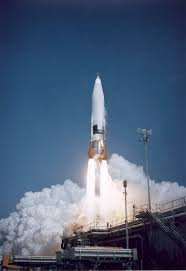ten_lua: (86, 67, 113, 168)
